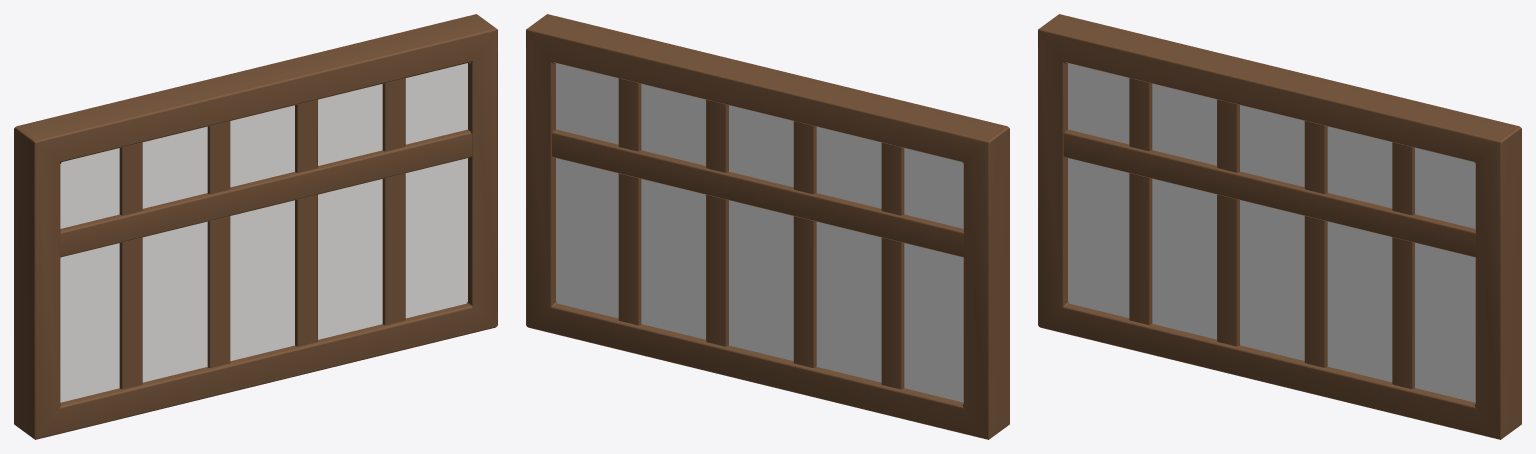
The model's file is Window_7.glb.
3 views of the same model, side by side, from view 1: azimuth 30°, elevation 25°; view 2: azimuth 150°, elevation 25°; view 3: azimuth 330°, elevation 25° (orthographic).
Parts seen in each view (by area): view 1: Window_11; view 2: Window_11; view 3: Window_11.
Part boxes in pixels (x1,y1,x2,y2): Window_11: (14,14,497,439); Window_11: (526,14,1009,439); Window_11: (1038,14,1521,439).
Bounding box in the file's own units: 4.98 × 3.07 × 0.399.
2 materials, 2 textured.
